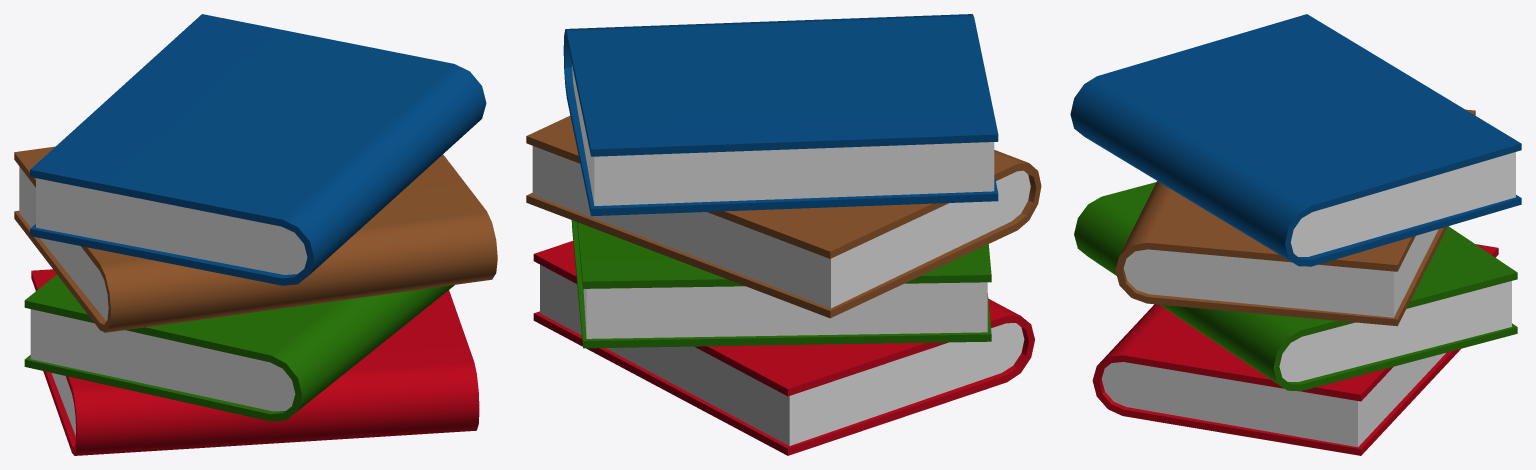
Rendered from Book_Pile_1.fbx.
The picture shows the model from 3 angles, left to right: view 1: azimuth 30°, elevation 25°; view 2: azimuth 150°, elevation 25°; view 3: azimuth 270°, elevation 25°; orthographic projection. The views are drawn at different scales.
Parts seen in each view (by area): view 1: Book_Pile_1; view 2: Book_Pile_1; view 3: Book_Pile_1.
Part boxes in pixels (x1,y1,x2,y2): Book_Pile_1: [14, 14, 497, 455]; Book_Pile_1: [526, 14, 1041, 455]; Book_Pile_1: [1070, 14, 1521, 455].
Bounding box in the file's own units: 0.019 × 0.011 × 0.0182.
